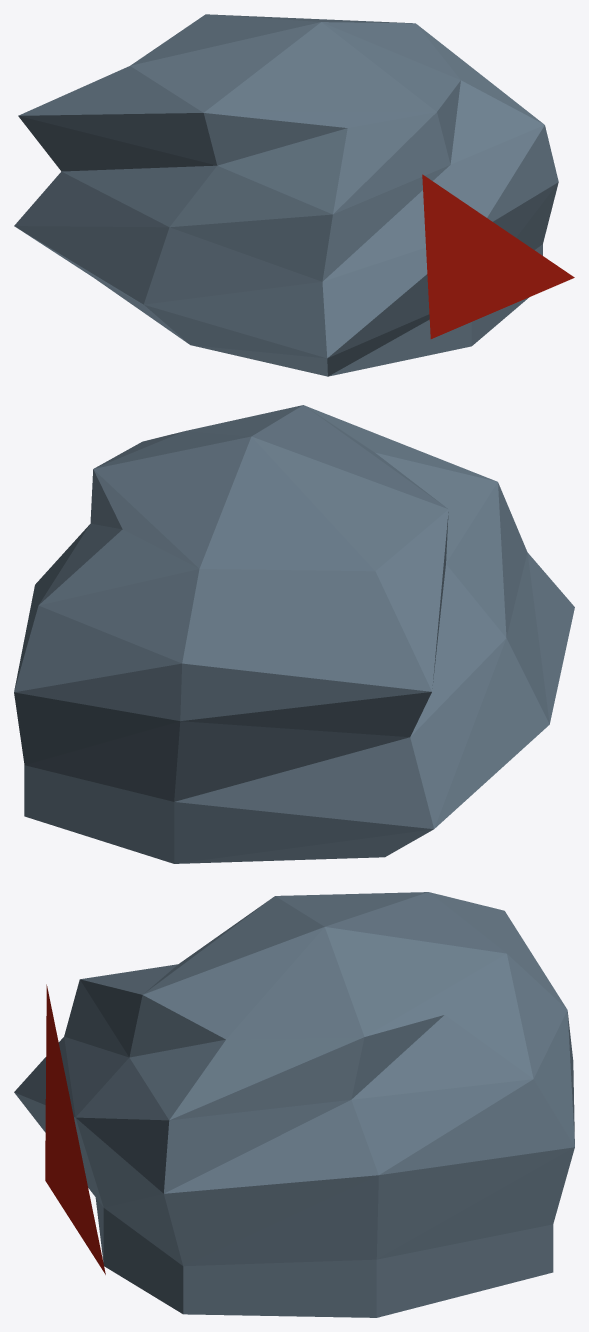
The picture shows the model from 3 angles, top to bottom: view 1: azimuth 30°, elevation 25°; view 2: azimuth 150°, elevation 25°; view 3: azimuth 270°, elevation 25°; orthographic projection. The views are drawn at different scales.
Size of the model in its own units: 0.3212 by 0.2075 by 0.342.
Materials: 2 (2 with a texture image).
